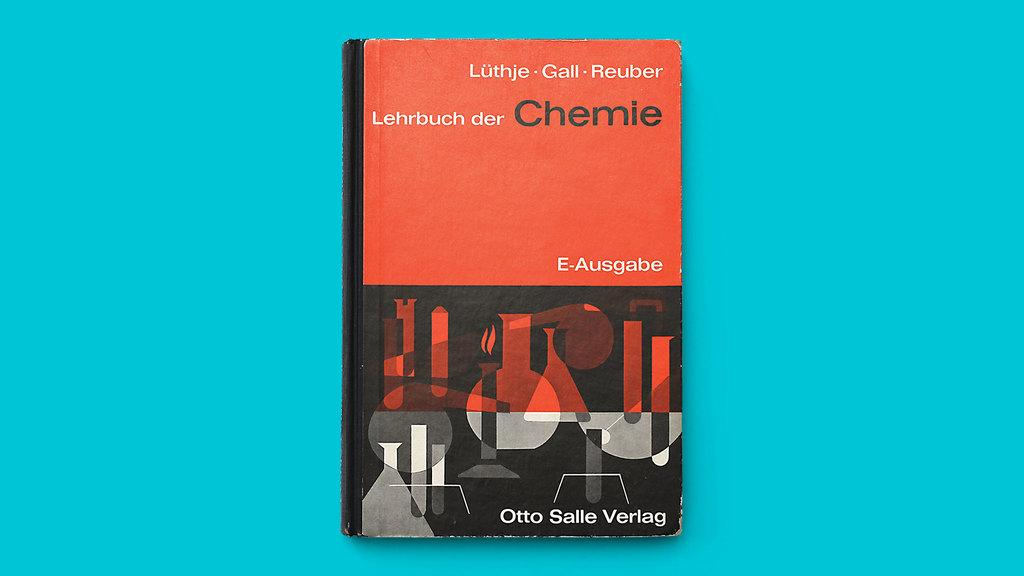book: (340, 38, 681, 536)
